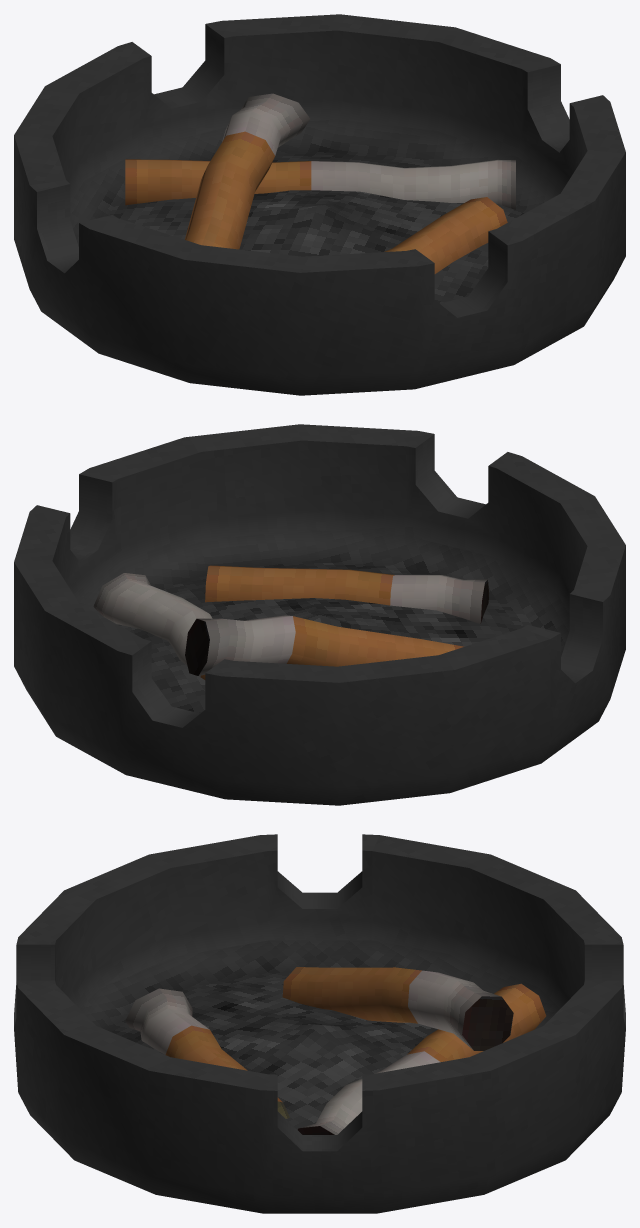
Rendered from ashtray_1.glb.
3 renders of one model, top to bottom at view 1: azimuth 30°, elevation 25°; view 2: azimuth 150°, elevation 25°; view 3: azimuth 270°, elevation 25°, orthographic.
Parts seen in each view (by area): view 1: ashtray_1; view 2: ashtray_1; view 3: ashtray_1.
Boxes of the visible parts, <box> form: ashtray_1: <box>14,14,625,395</box>; ashtray_1: <box>14,424,625,805</box>; ashtray_1: <box>14,834,625,1213</box>.
Bounding box in the file's own units: 0.1432 × 0.036 × 0.1432.
2 materials, 2 textured.
